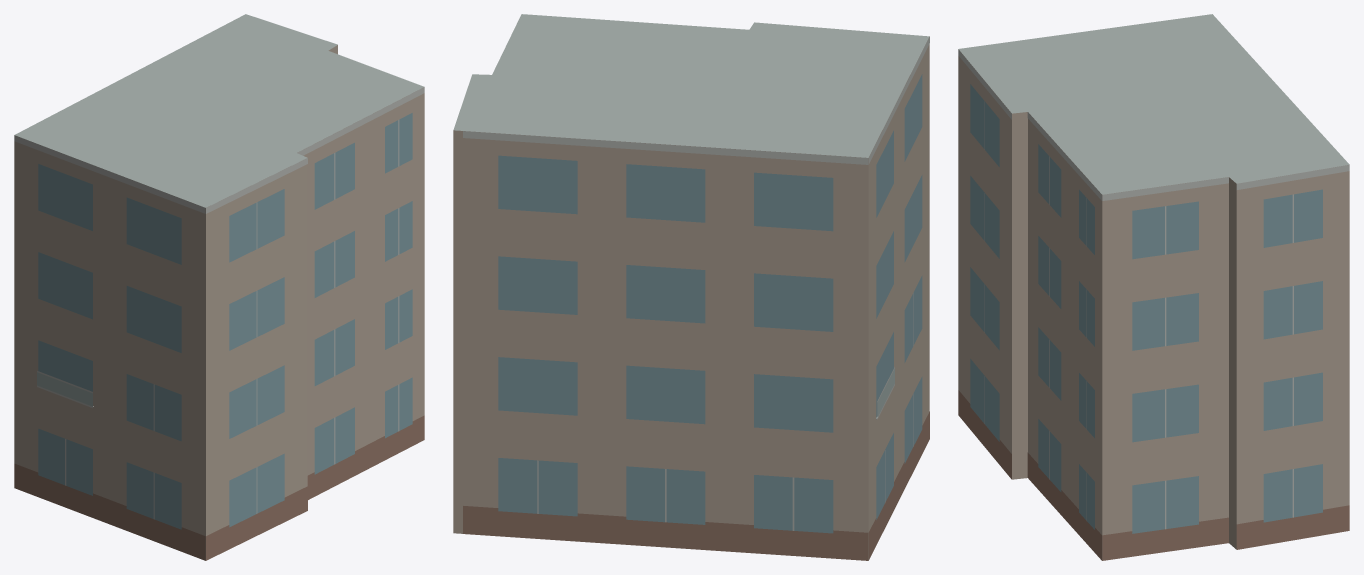
The model's file is survey-upis-32851277.glb.
3 views of the same model, side by side, from view 1: azimuth 30°, elevation 25°; view 2: azimuth 150°, elevation 25°; view 3: azimuth 270°, elevation 25° (orthographic). The views are drawn at different scales.
Visible parts, largest first — view 1: survey-upis-32851277.tmp; view 2: survey-upis-32851277.tmp; view 3: survey-upis-32851277.tmp.
Boxes of the visible parts, bbox=[...] form: survey-upis-32851277.tmp: bbox=[14, 14, 424, 560]; survey-upis-32851277.tmp: bbox=[453, 14, 929, 560]; survey-upis-32851277.tmp: bbox=[958, 14, 1349, 560].
Bounding box in the file's own units: 14.78 × 13.95 × 13.52.
